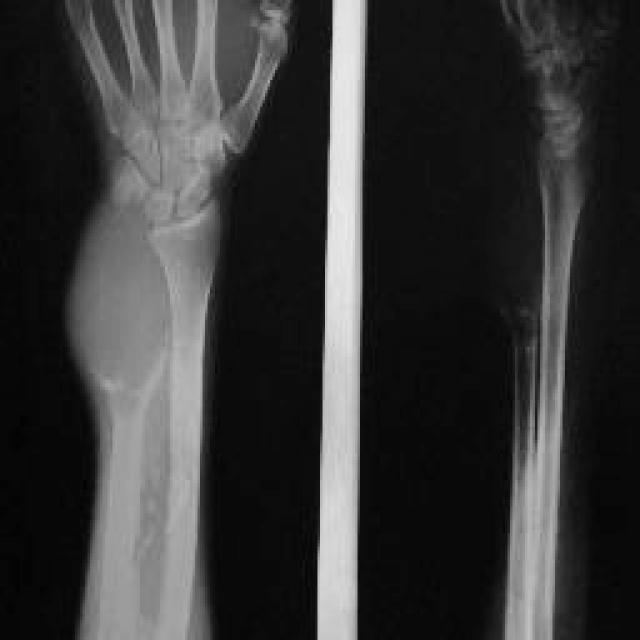bone-cancer: (68, 198, 171, 397), (482, 115, 544, 336)
